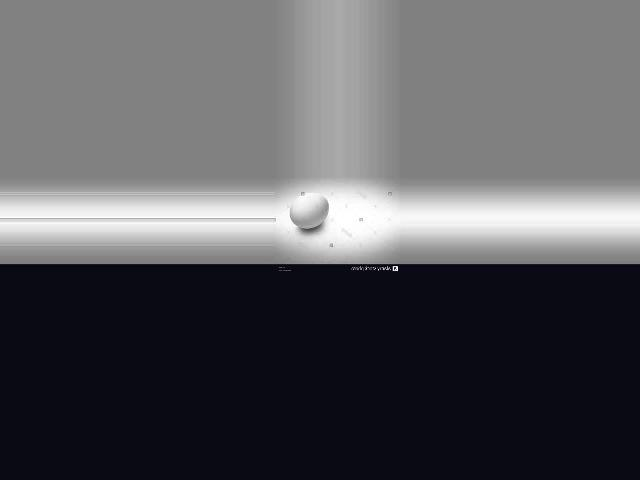egg: (288, 193, 327, 229)
